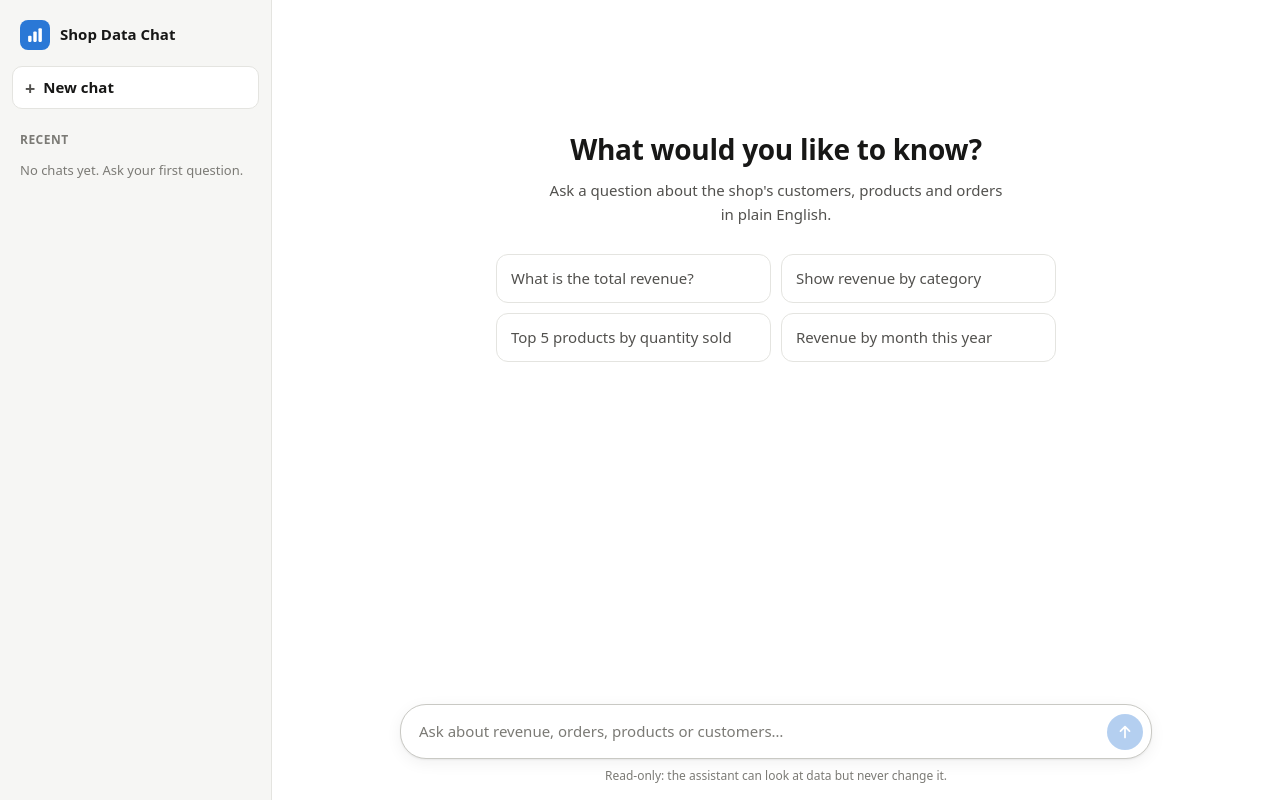
Test case: the chat page › shows a friendly message when the API is down
Type "total revenue" into the text box named "Ask a question" at (759,732), box [419,713,1099,750]
Then press Enter
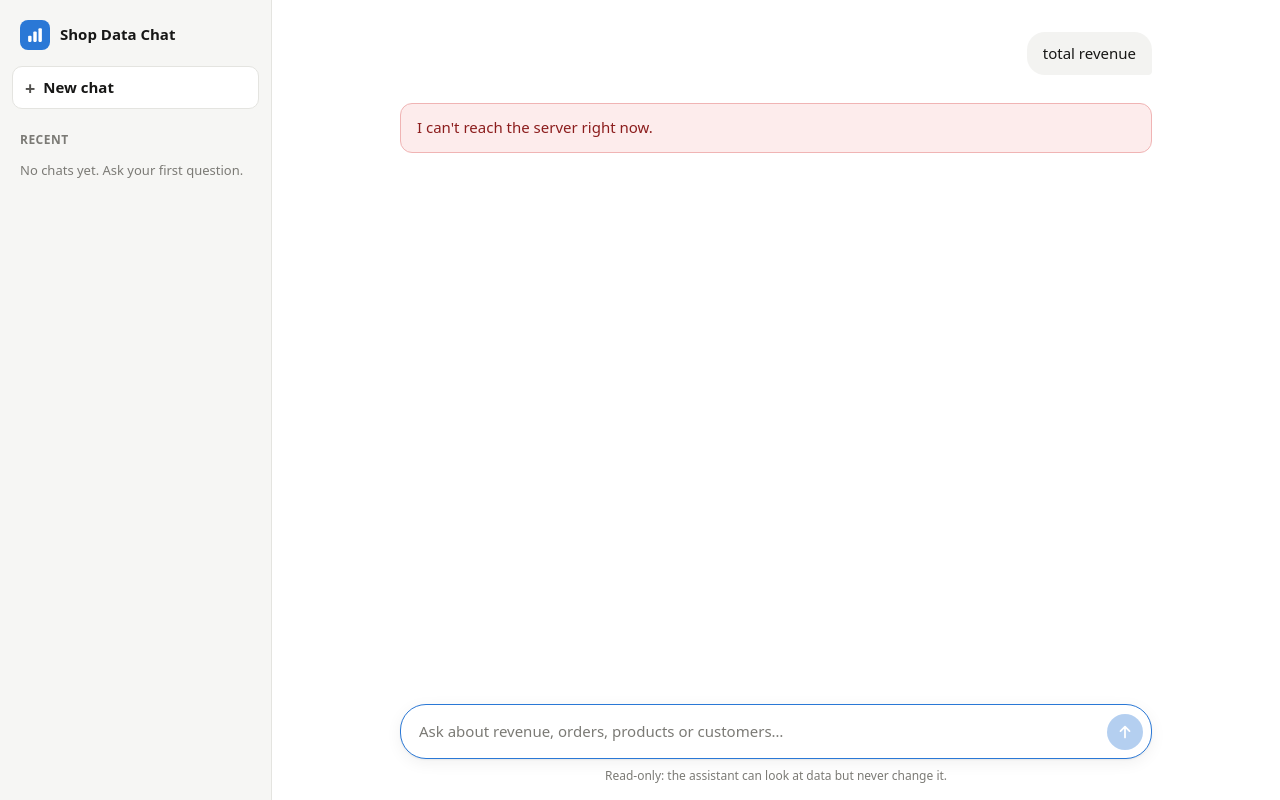
Expected: the message reads "I can't reach the server right now.", [417,117,653,137]
